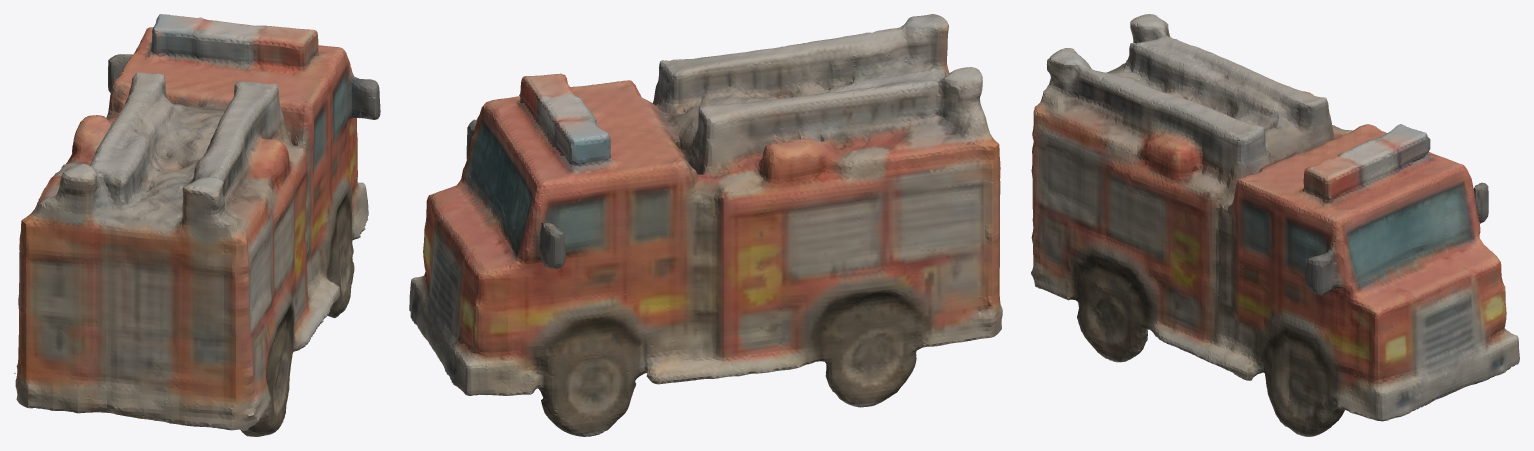
The model's file is firetruck.glb.
3 renders of one model, left to right at view 1: azimuth 30°, elevation 25°; view 2: azimuth 150°, elevation 25°; view 3: azimuth 270°, elevation 25°, orthographic. The views are drawn at different scales.
Visible parts, largest first — view 1: world; view 2: world; view 3: world.
Boxes of the visible parts, x1=… form: world: x1=14, y1=14, x2=380, y2=436; world: x1=409, y1=14, x2=1002, y2=436; world: x1=1031, y1=14, x2=1519, y2=436.
Size of the model in its own units: 1.93 by 1.15 by 1.93.
